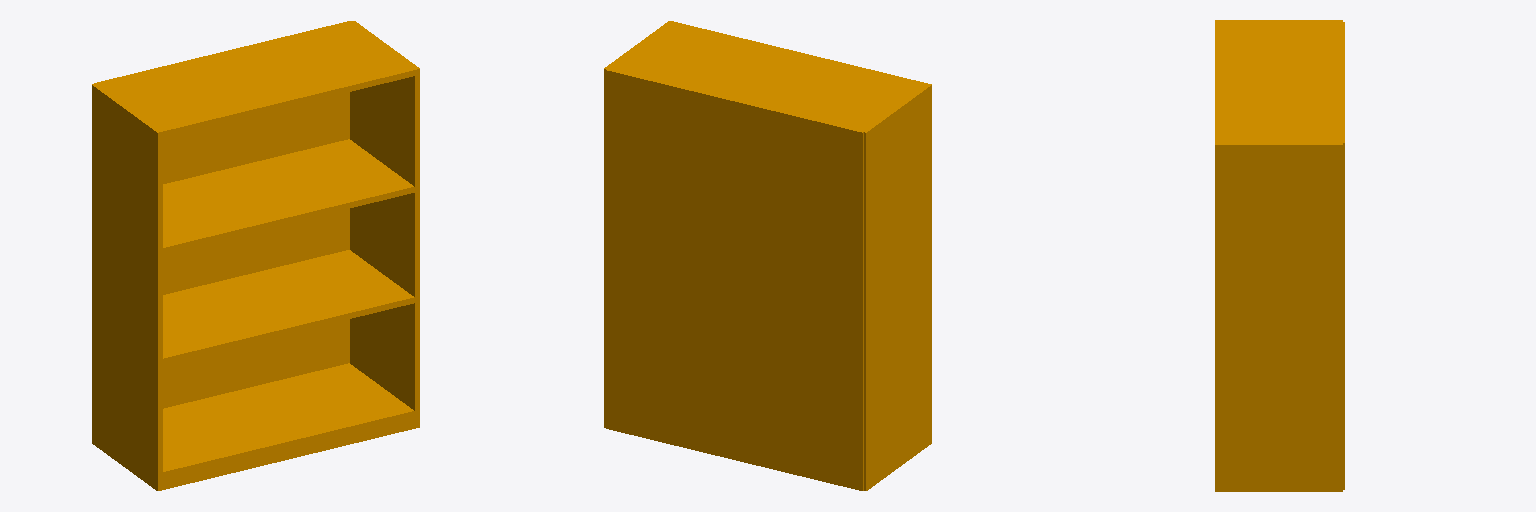
robot.urdf — bookshelf:
<?xml version="1.0" ?>
<robot name="bookshelf">
  <link name="bookshelf__link">
    <inertial>
      <mass value="1.0"/>
      <origin xyz="0 0 0" rpy="0 0 0"/>
      <inertia ixx="0" ixy="0" ixz="0" iyy="0" iyz="0" izz="0"/>
    </inertial>
    <collision name="bookshelf__back">
      <origin xyz="0    0.005 0.6" rpy="0 0 0"/>
      <geometry>
        <box size="0.9 0.01 1.2"/>
      </geometry>
    </collision>
    <collision name="bookshelf__left_side">
      <origin xyz="0.45  -0.195  0.6" rpy="0 0 0"/>
      <geometry>
        <box size="0.02 0.4 1.2"/>
      </geometry>
    </collision>
    <collision name="bookshelf__right_side">
      <origin xyz="-0.45  -0.195  0.6" rpy="0 0 0"/>
      <geometry>
        <box size="0.02 0.4 1.2"/>
      </geometry>
    </collision>
    <collision name="bookshelf__bottom">
      <origin xyz="0    -0.195  0.03" rpy="0 0 0"/>
      <geometry>
        <box size="0.88 0.4 0.06"/>
      </geometry>
    </collision>
    <collision name="bookshelf__top">
      <origin xyz="0    -0.195  1.19" rpy="0 0 0"/>
      <geometry>
        <box size="0.88 0.4 0.02"/>
      </geometry>
    </collision>
    <collision name="bookshelf__low_shelf">
      <origin xyz="0    -0.195  0.43" rpy="0 0 0"/>
      <geometry>
        <box size="0.88 0.4 0.02"/>
      </geometry>
    </collision>
    <collision name="bookshelf__high_shelf">
      <origin xyz="0    -0.195  0.8" rpy="0 0 0"/>
      <geometry>
        <box size="0.88 0.4 0.02"/>
      </geometry>
    </collision>
    <visual name="bookshelf__visual1">
      <origin xyz="0    0.005 0.6" rpy="0 0 0"/>
      <geometry>
        <box size="0.9 0.01 1.2"/>
      </geometry>
    </visual>
    <visual name="bookshelf__visual2">
      <origin xyz="0.45  -0.195  0.6" rpy="0 0 0"/>
      <geometry>
        <box size="0.02 0.4 1.2"/>
      </geometry>
    </visual>
    <visual name="bookshelf__visual3">
      <origin xyz="-0.45  -0.195  0.6" rpy="0 0 0"/>
      <geometry>
        <box size="0.02 0.4 1.2"/>
      </geometry>
    </visual>
    <visual name="bookshelf__visual4">
      <origin xyz="0    -0.195  0.03" rpy="0 0 0"/>
      <geometry>
        <box size="0.88 0.4 0.06"/>
      </geometry>
    </visual>
    <visual name="bookshelf__visual5">
      <origin xyz="0    -0.195  1.19" rpy="0 0 0"/>
      <geometry>
        <box size="0.88 0.4 0.02"/>
      </geometry>
    </visual>
    <visual name="bookshelf__visual6">
      <origin xyz="0    -0.195  0.43" rpy="0 0 0"/>
      <geometry>
        <box size="0.88 0.4 0.02"/>
      </geometry>
    </visual>
    <visual name="bookshelf__visual7">
      <origin xyz="0    -0.195  0.8" rpy="0 0 0"/>
      <geometry>
        <box size="0.88 0.4 0.02"/>
      </geometry>
    </visual>
  </link>
</robot>

--- Render facts (derived) ---
Views: 3 orthographic renders of the robot side by side, from view 1: azimuth 30°, elevation 25°; view 2: azimuth 150°, elevation 25°; view 3: azimuth 270°, elevation 25°.
Robot: bookshelf — 1 links, 0 joints (none); root link bookshelf__link; default pose: all joints at 0.
Visible links, largest first — view 1: bookshelf__link; view 2: bookshelf__link; view 3: bookshelf__link.
Link boxes in pixels (<box>): bookshelf__link: <box>92,21,419,490</box>; bookshelf__link: <box>604,21,931,490</box>; bookshelf__link: <box>1215,20,1344,491</box>.
Bounding box of the posed robot: 0.92 × 0.405 × 1.2 m (x, y, z).
Geometry: primitives only (box / cylinder / sphere), no mesh files.
